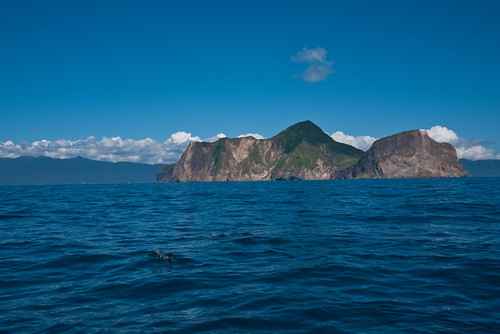turtleIsland: (153, 118, 466, 181)
